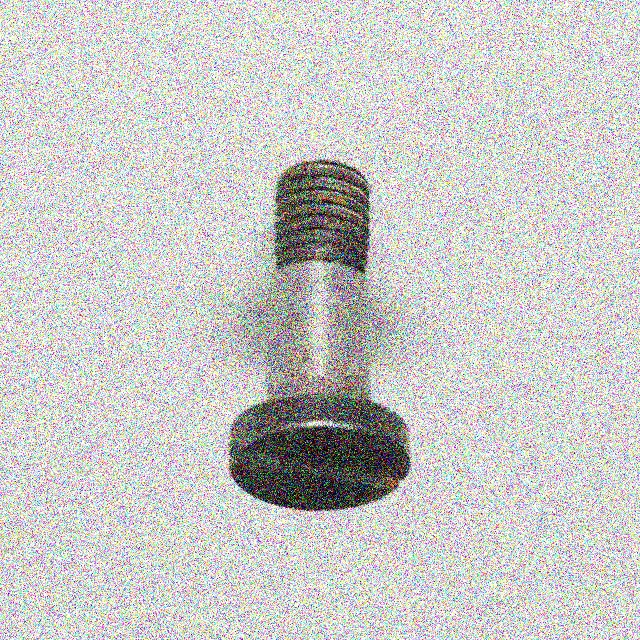duz: (225, 394, 412, 515)
